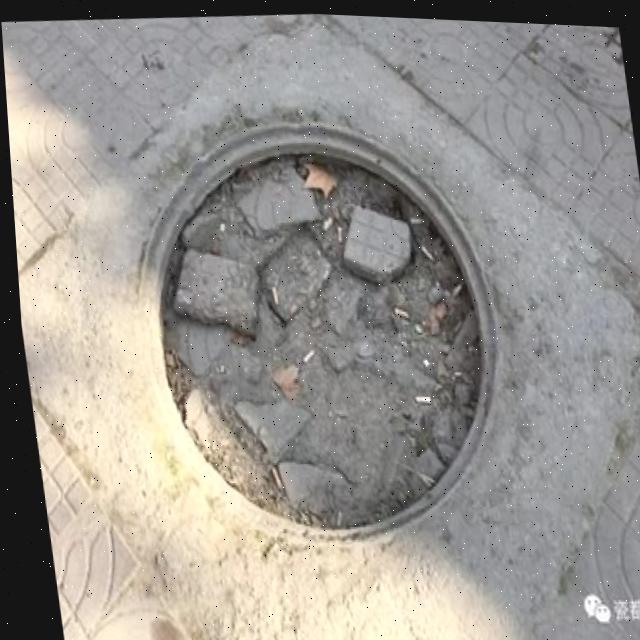manhole: (102, 93, 530, 567)
